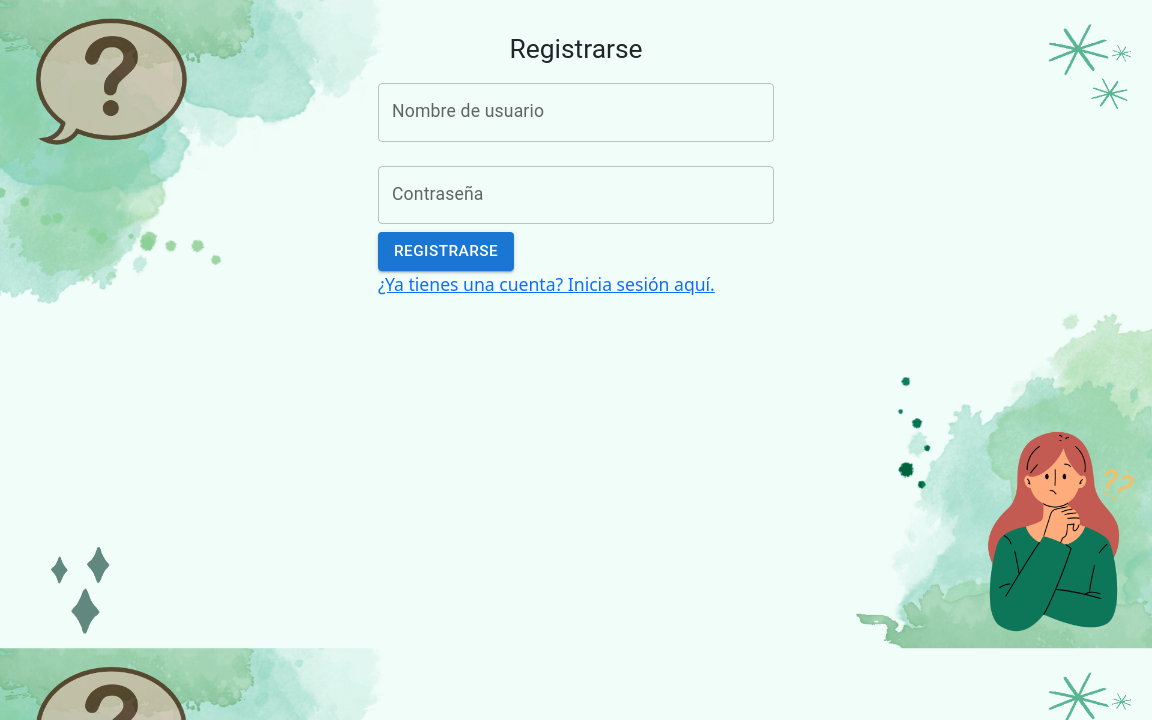
Test case: AddUser component › should handle error when adding user
// Simulate user input
Type "testUser" into the field labelled "Nombre de usuario" at (576, 112), box x1=378 y1=83 x2=774 y2=142
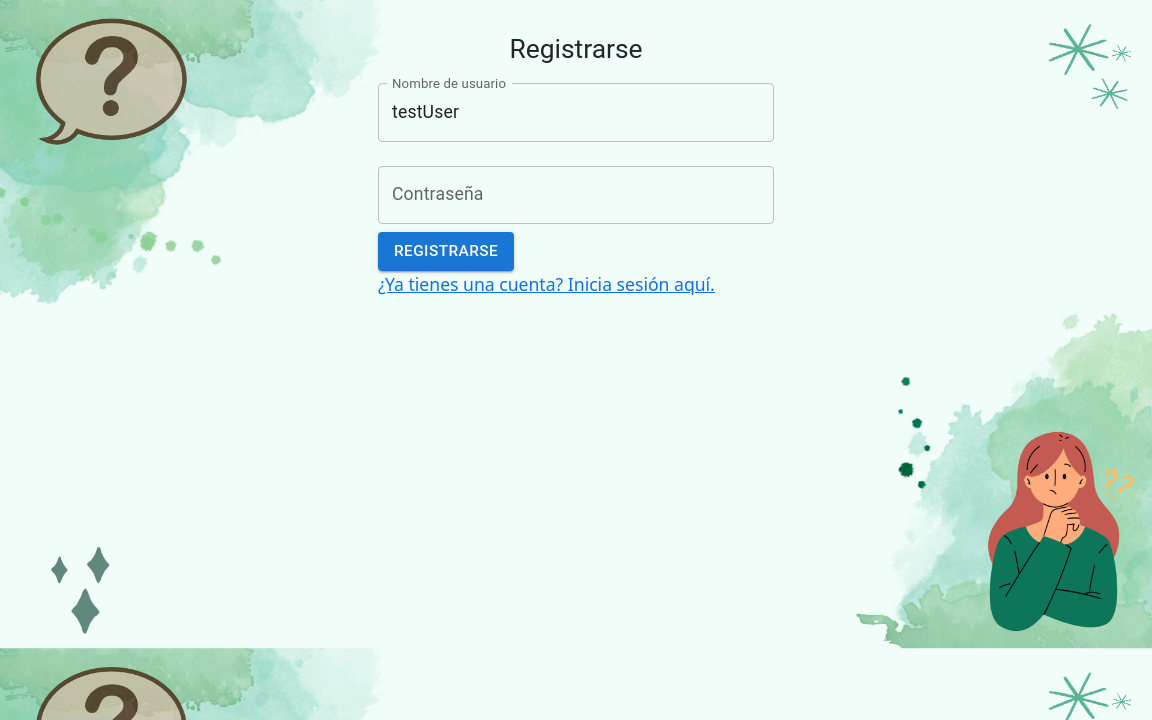
Type "testPassword" into the password field labelled "Contraseña" at (576, 195), box x1=378 y1=166 x2=774 y2=224
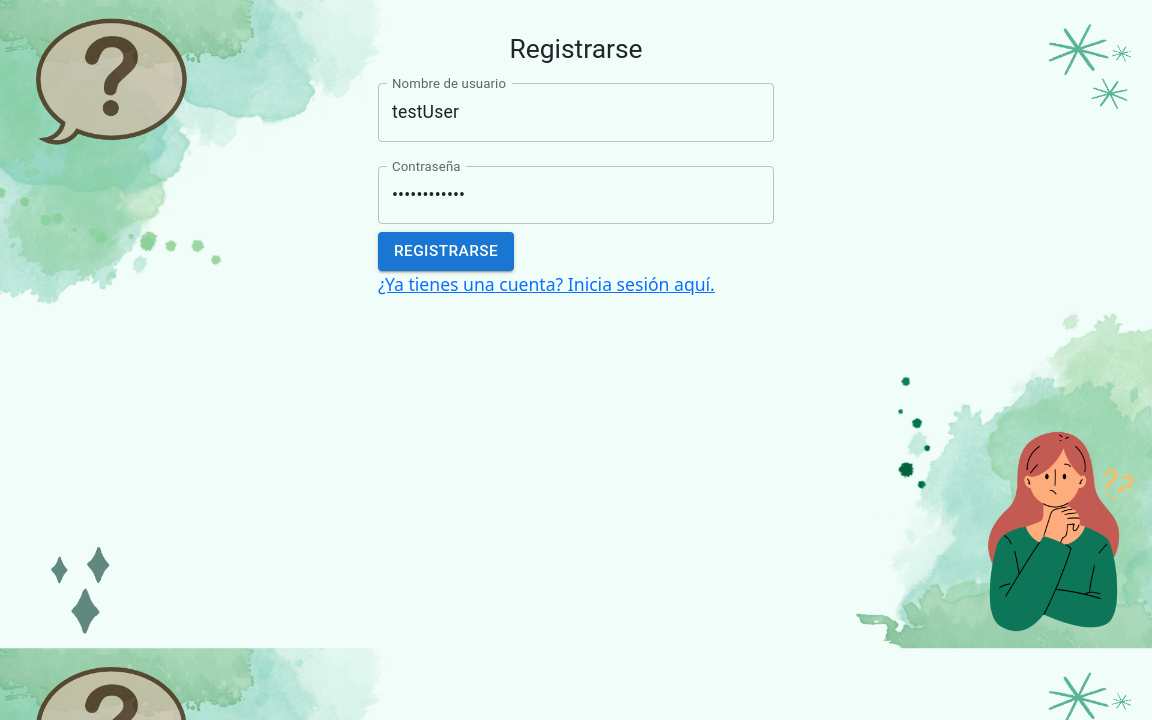
// Trigger the add user button click
Click the button "Registrarse" at (446, 251), box x1=378 y1=232 x2=514 y2=271
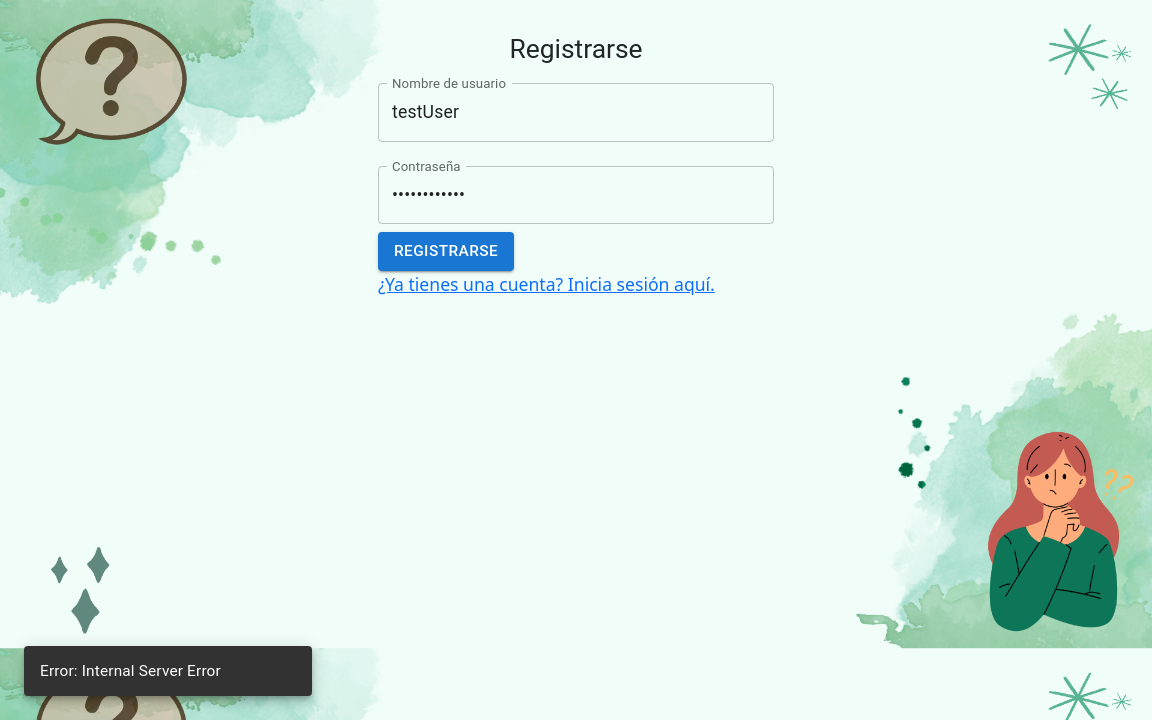
Expected: the text "Error: Internal Server Error" is shown, x1=40 y1=662 x2=221 y2=680
